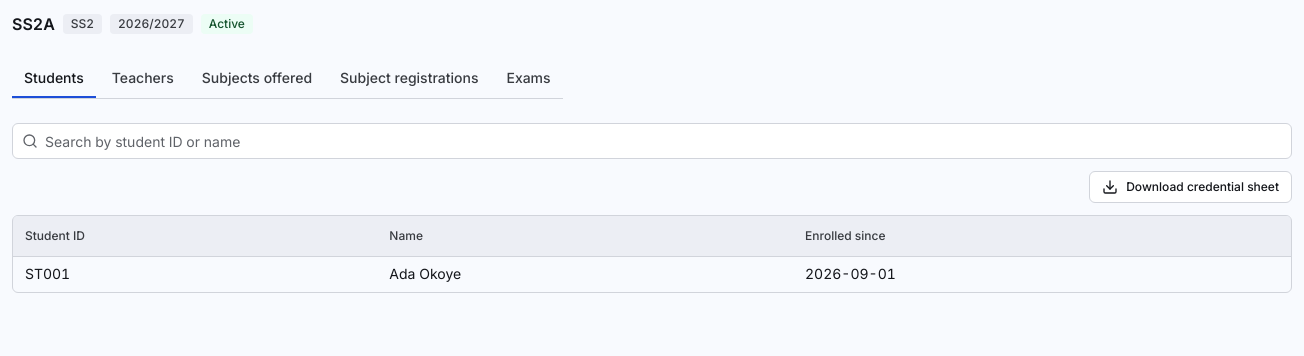
ClassDetailScreen › shows an inline error if the credential sheet download fails, instead of failing silently
Click the button "Download credential sheet" at (1191, 187), box [1089,171,1292,203]
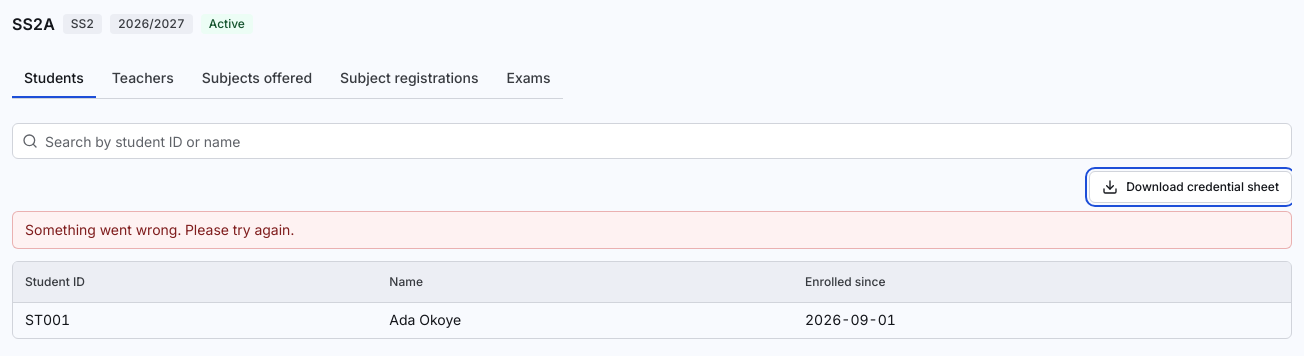
Expected: the message shows "Something went wrong", [25,221,294,238]
